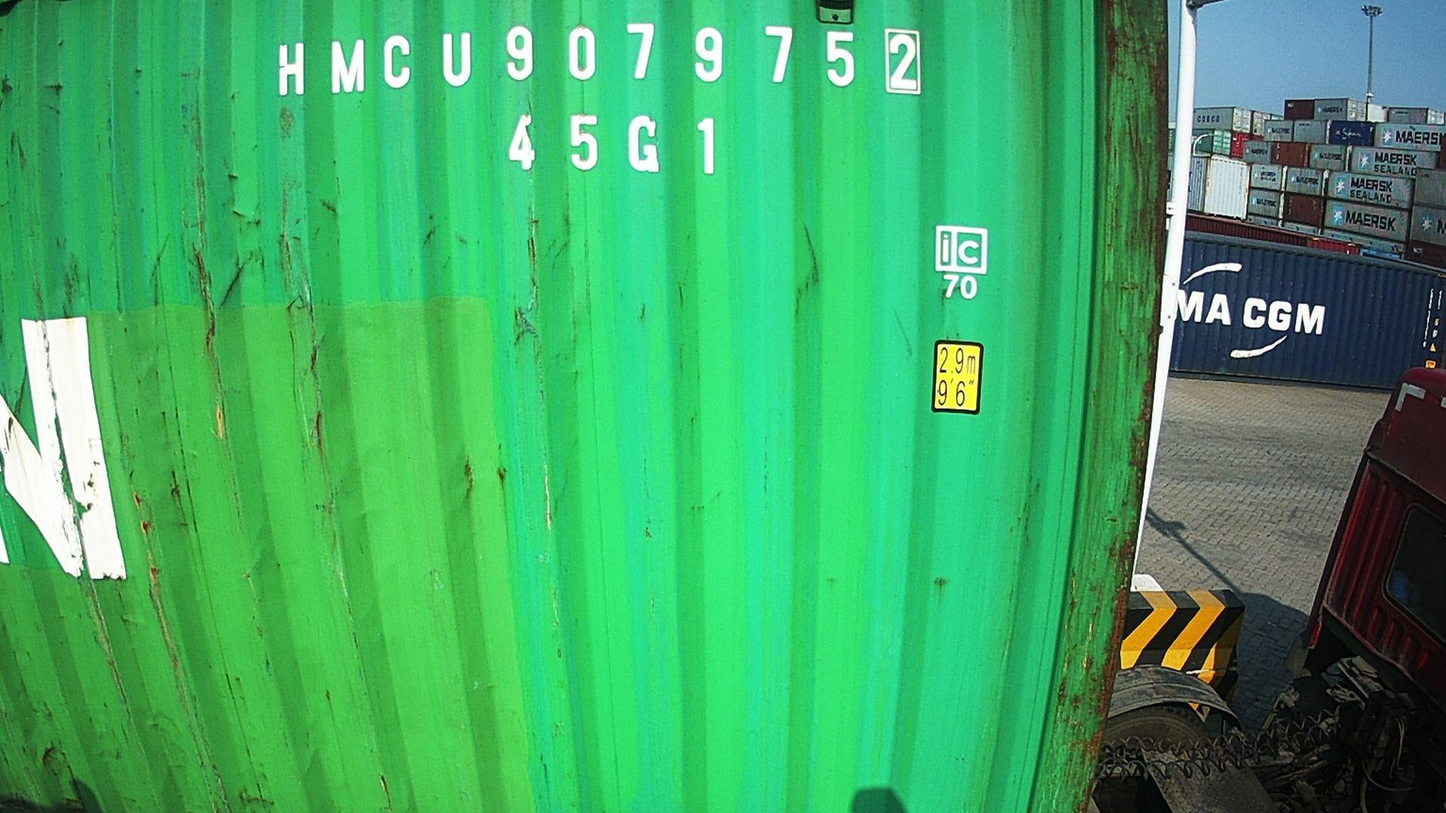container-numbers: (262, 9, 925, 104), (501, 109, 728, 182)
